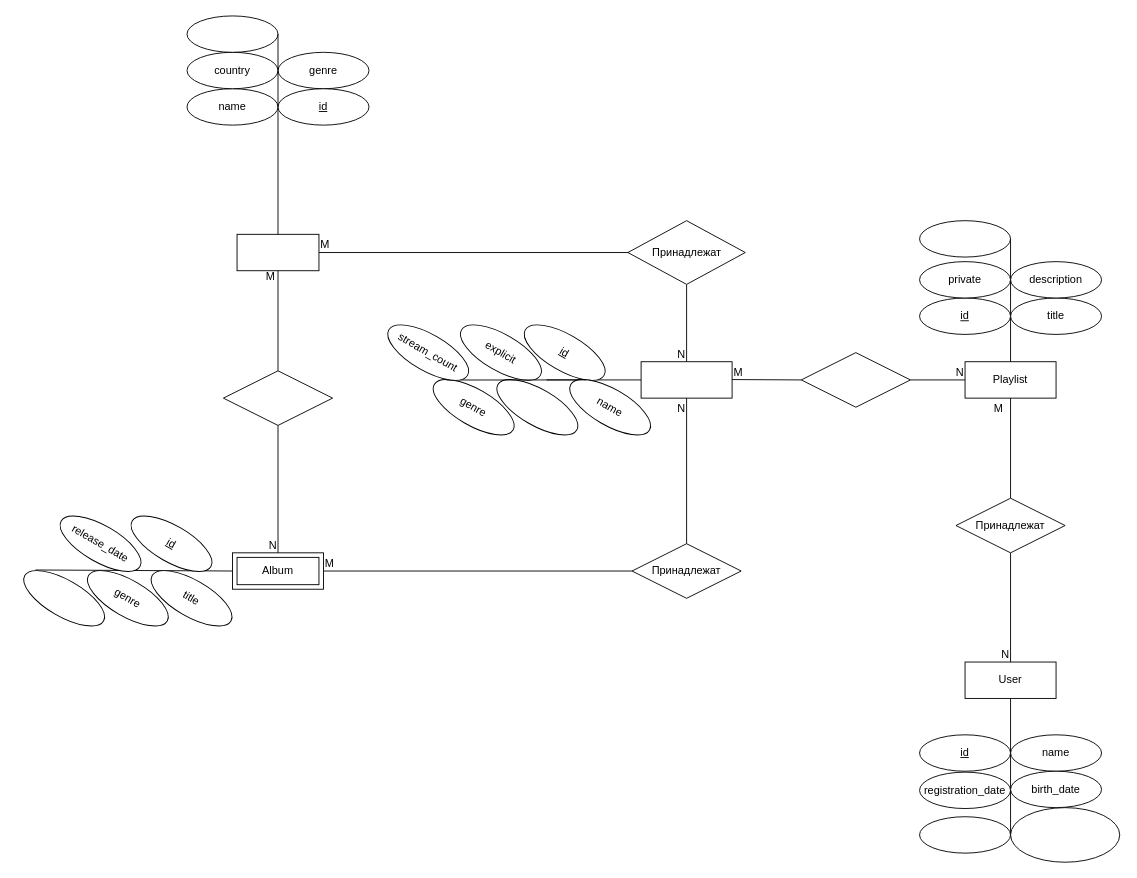
Image size: 1137x878. Some labels were removed from this diagram. The shapes that lost their labels are listed below. From the top down, each one's centre as x and y in pixels, then its label:
At pixel 232 33: "debut_year".
At pixel 277 252: "Artist".
At pixel 965 238: "rating".
At pixel 277 397: "Принадлежит".
At pixel 686 379: "Track".
At pixel 855 379: "Находятся".
At pixel 537 407: "duration".
At pixel 64 598: "label".
At pixel 965 834: "premium".
At pixel 1065 834: "premium expiration".
